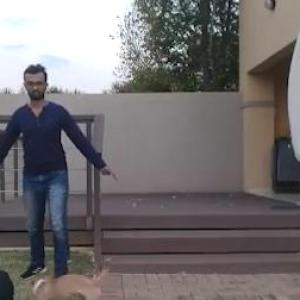land: (0, 63, 116, 294)
